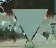Give way: (0, 1, 52, 47)
